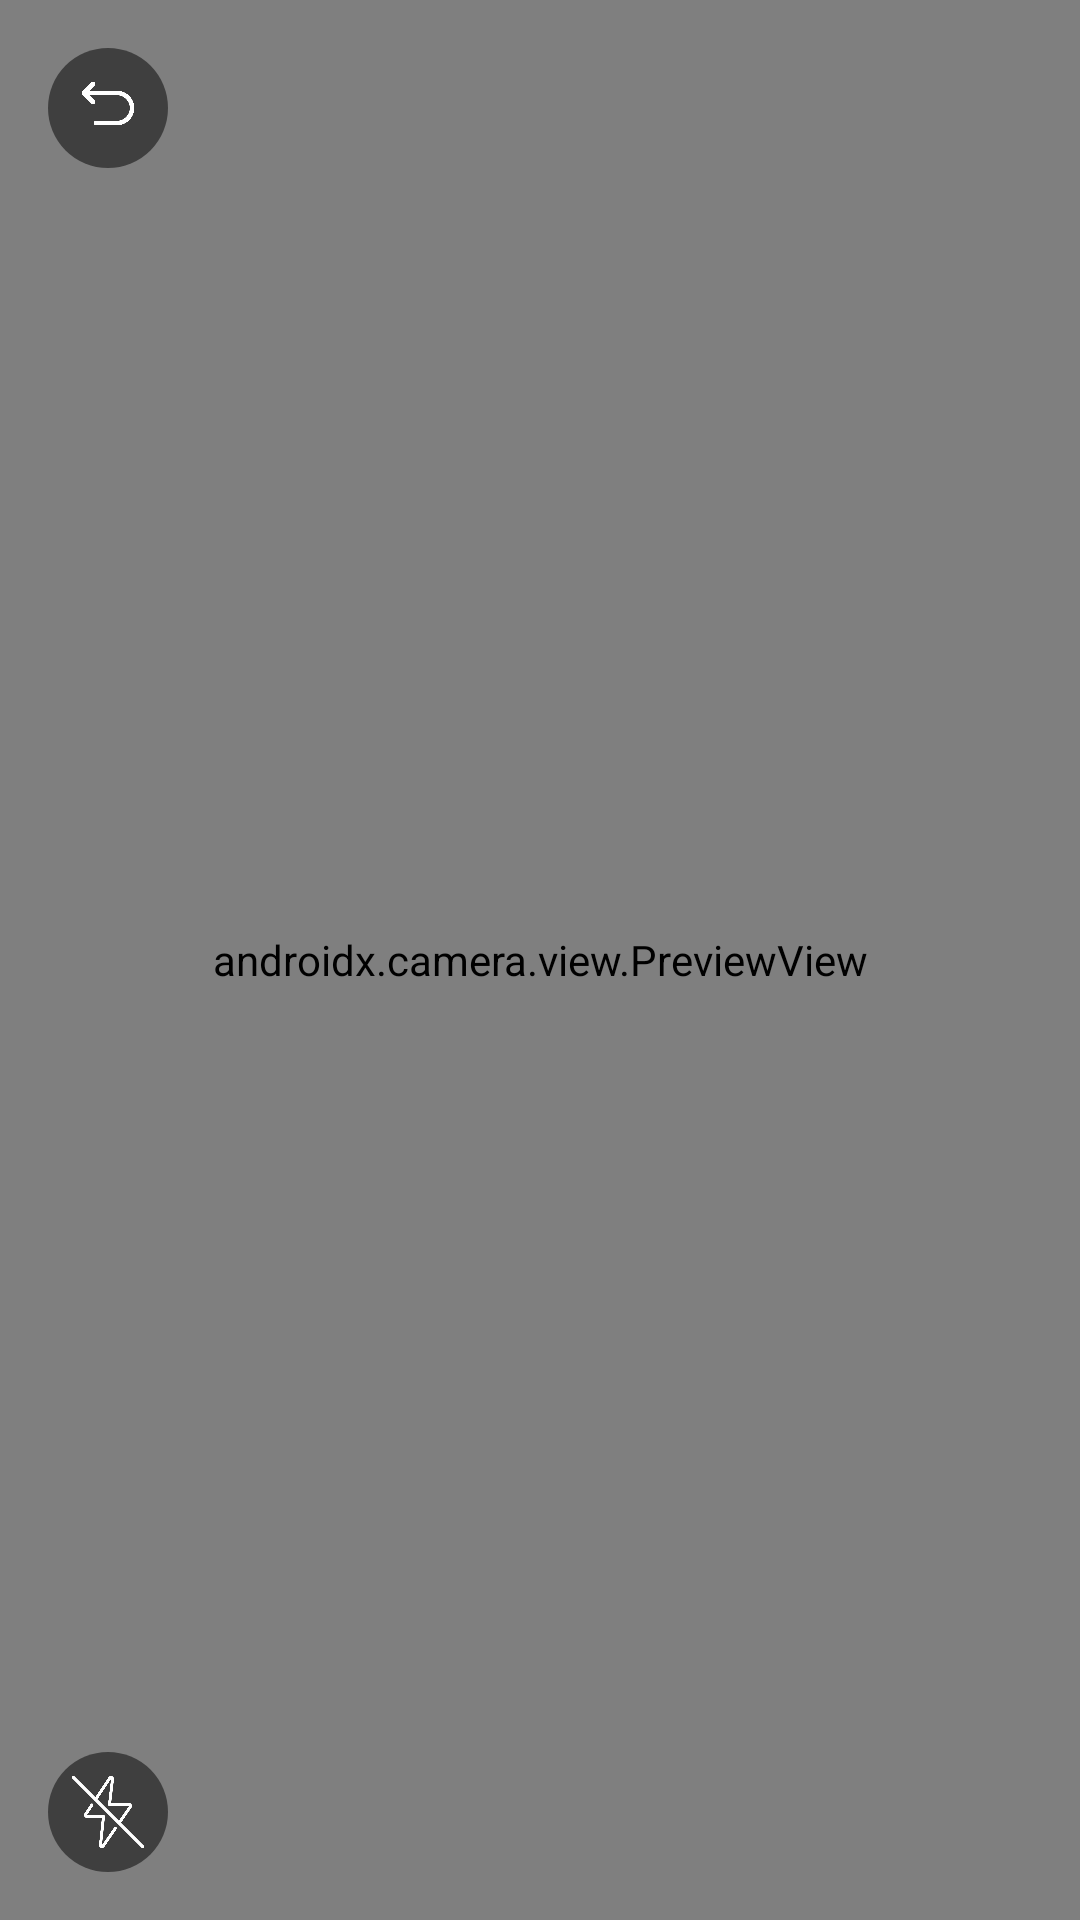

Screen size 1080px×1920px. Icon name, then its center in pixels as point (x, y):
Flashlight: point (108, 1812)
Kembali: point (108, 108)
